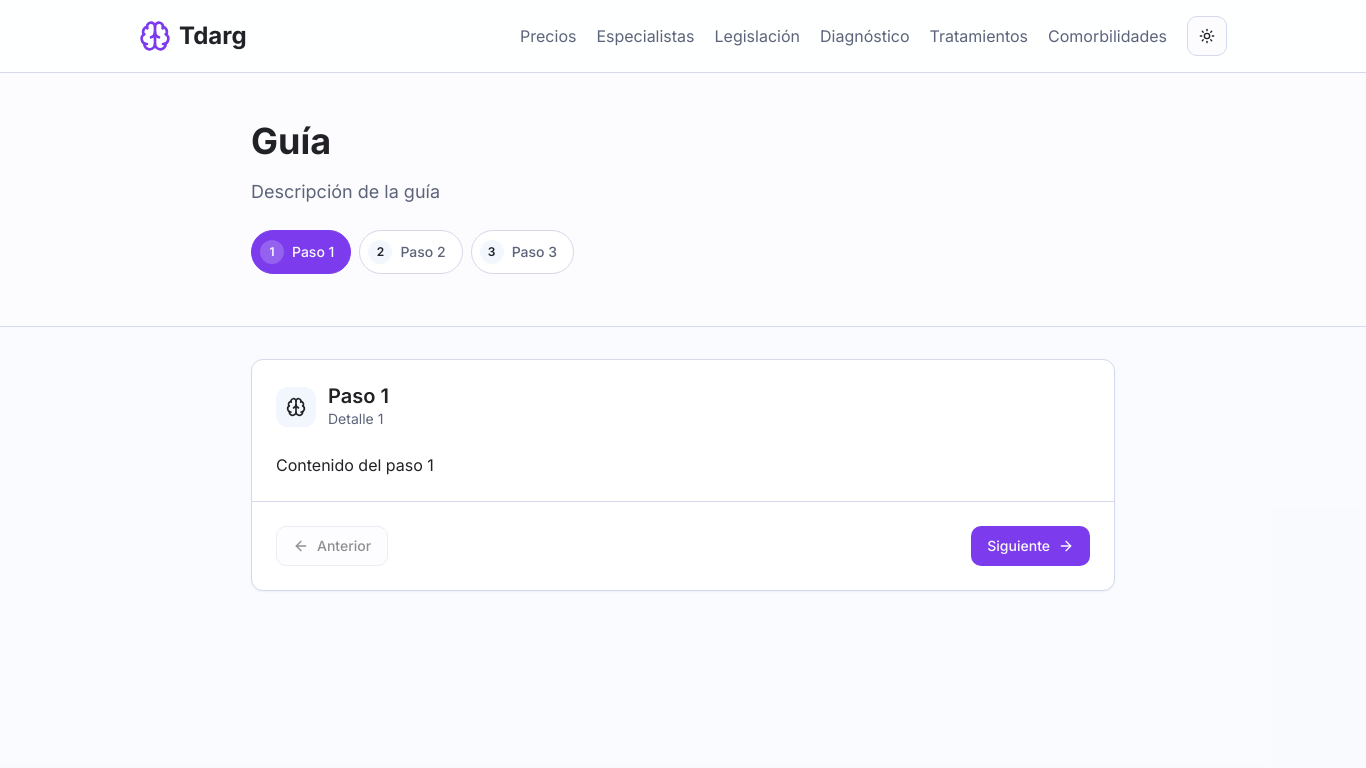
Test: StepGuideLayout › shows the final actions on the last step
This screenshot has width=1366, height=768.
Click the button "3 Paso 3": (522, 252) [471, 230, 574, 274]
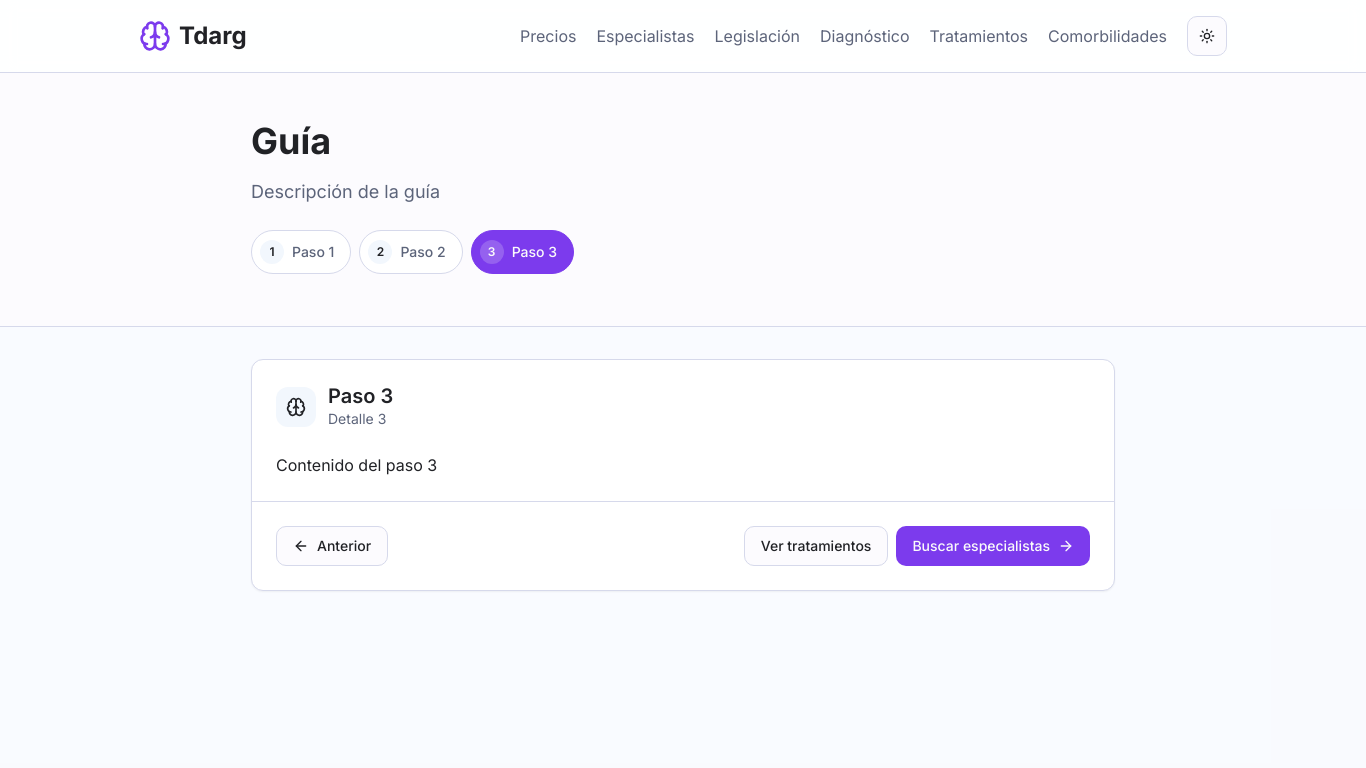
Expected: the button "Siguiente" is gone
